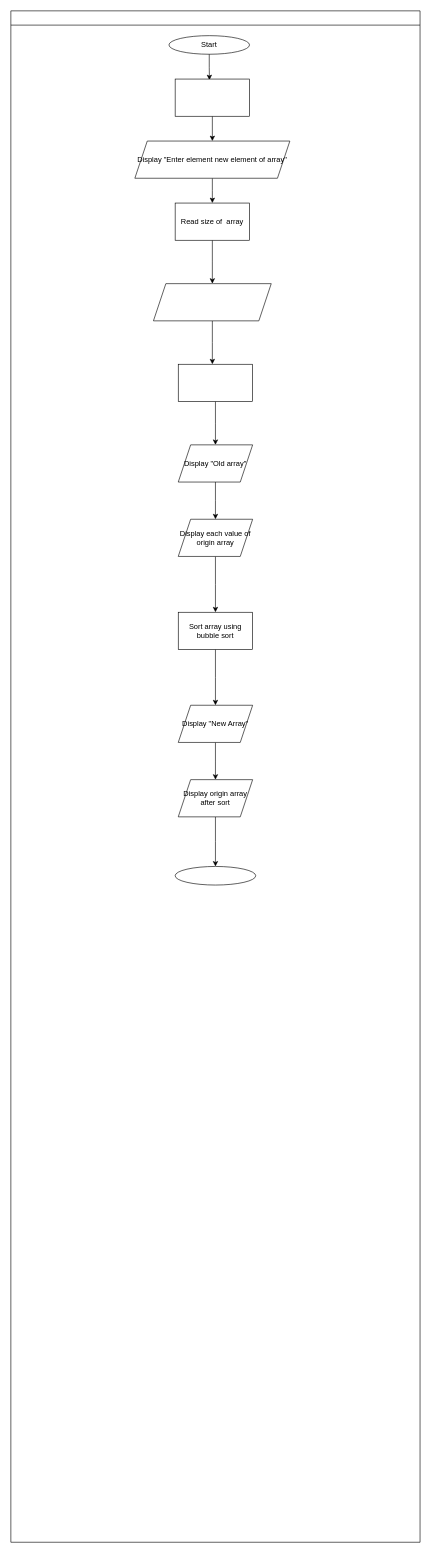
The diagram is 431 pixels wide and 1553 high, and some of its shapes have lost their labels. The shapes that lost their labels are listed below. From the top down, each one's centre as x and y in pixels, then its label:
the point at 212,97: original data is {9,2,6,1,7}
the point at 212,302: Read value from user store in array until equal size of array
the point at 215,382: add new array to that input to last of origin array
the point at 215,875: End
